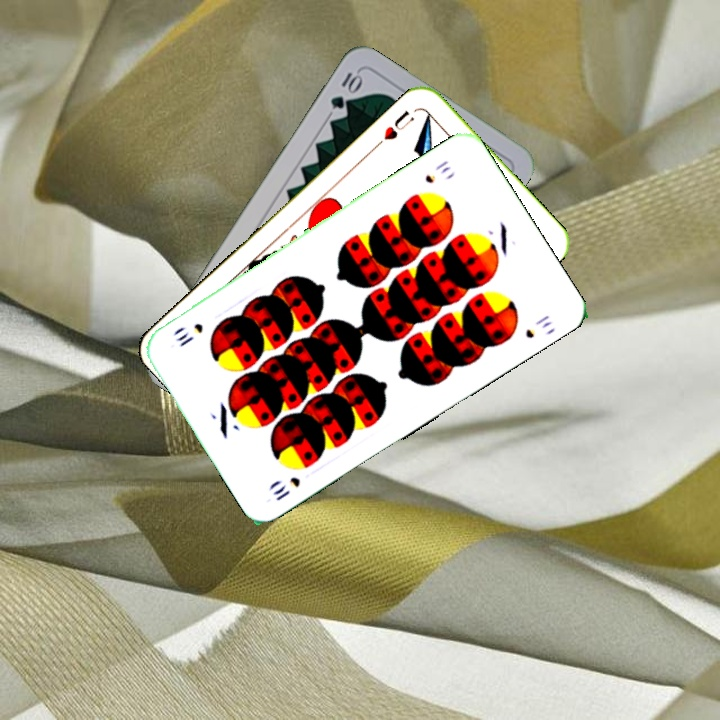G10: (326, 68, 364, 112)
HU: (379, 106, 417, 143)
S10: (269, 472, 303, 504), (420, 156, 453, 186)
